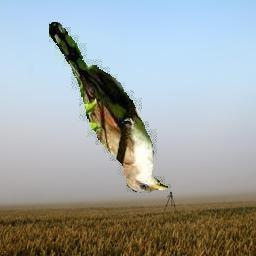Cuckoo: (49, 23, 171, 194)
